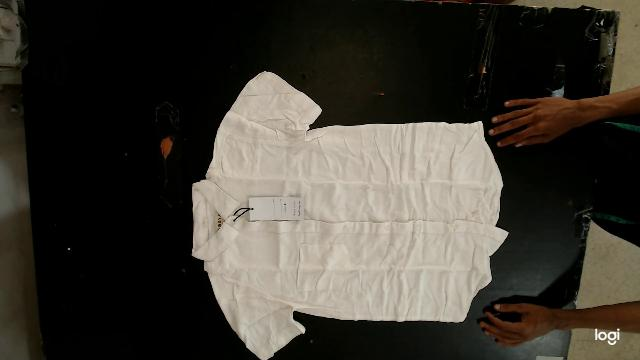new-garment: (192, 71, 508, 359)
